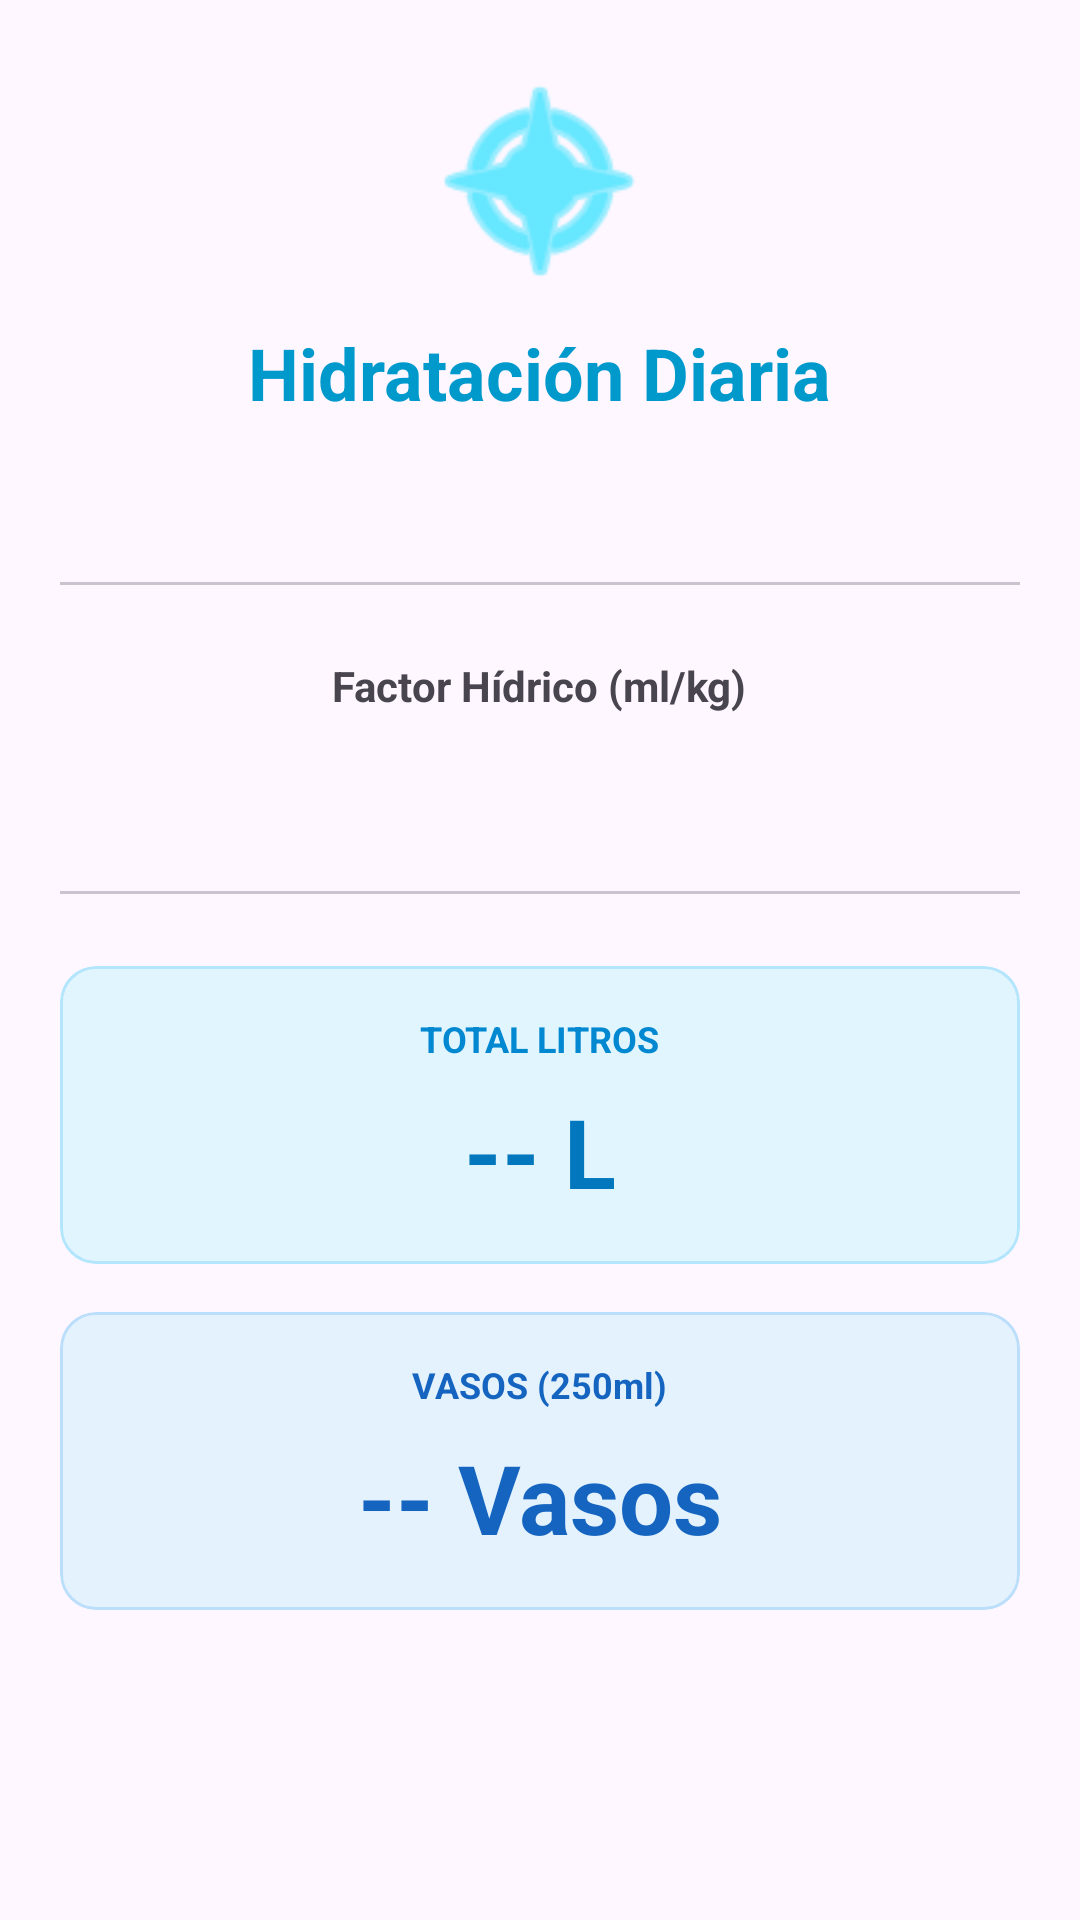

Icons on this 1080*1920 Android screen, each with the point to tap as [x,y]:
compass: [539,181]
